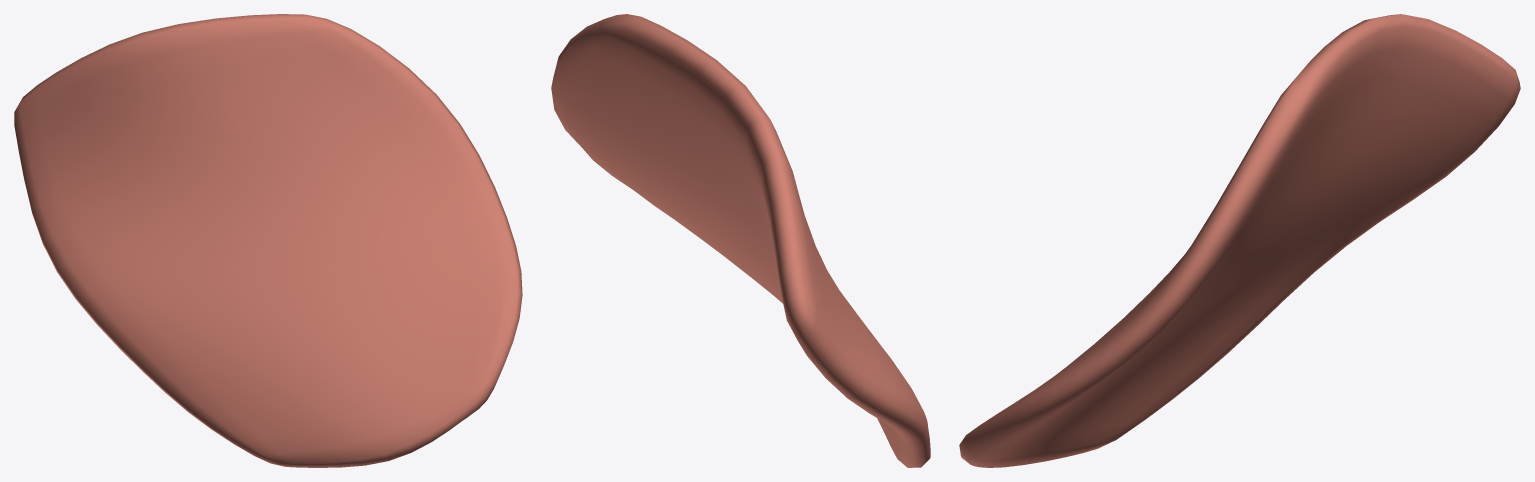
The picture shows the model from 3 angles, left to right: view 1: azimuth 30°, elevation 25°; view 2: azimuth 150°, elevation 25°; view 3: azimuth 270°, elevation 25°; orthographic projection. The views are drawn at different scales.
Visible parts, largest first — view 1: 右侧腓肠肌外侧头腱下囊; view 2: 右侧腓肠肌外侧头腱下囊; view 3: 右侧腓肠肌外侧头腱下囊.
Part boxes in pixels (bbox=[...]): 右侧腓肠肌外侧头腱下囊: bbox=[14, 14, 522, 467]; 右侧腓肠肌外侧头腱下囊: bbox=[551, 14, 930, 467]; 右侧腓肠肌外侧头腱下囊: bbox=[959, 14, 1520, 467].
Size of the model in its own units: 0.0225 by 0.0225 by 0.0258.
